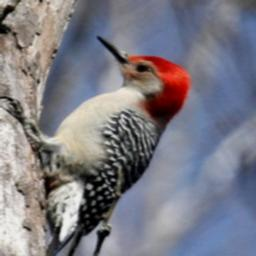Woodpecker: (0, 30, 199, 256)
